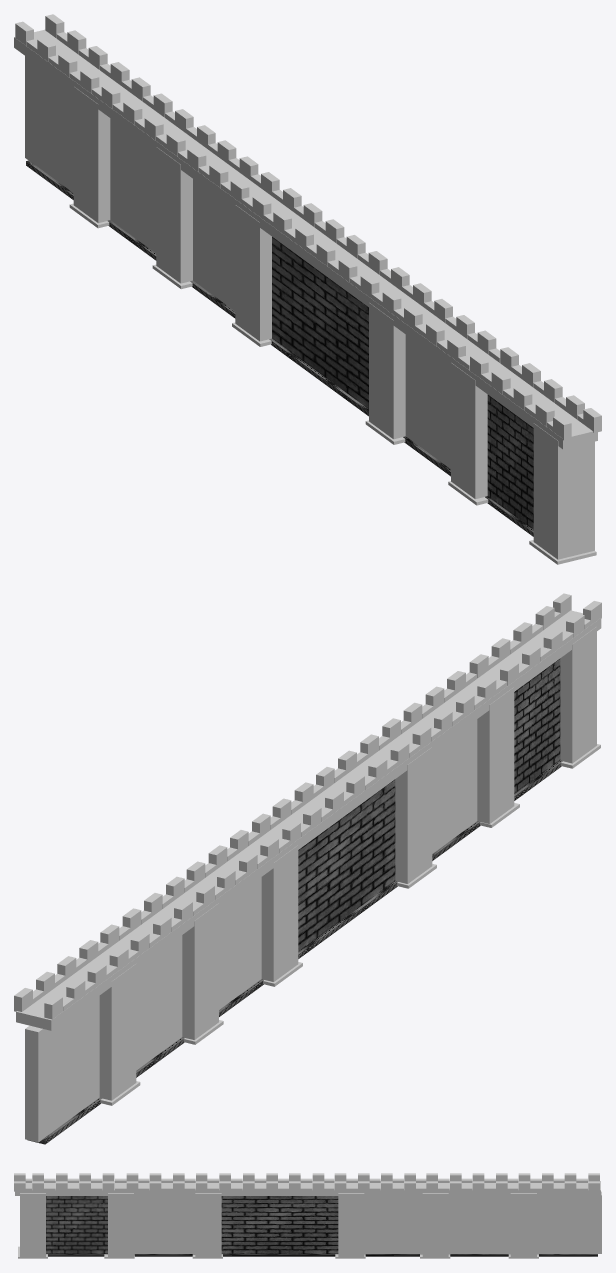
Rendered from Muro.fbx.
3 views of the same model, one above another, from view 1: azimuth 30°, elevation 25°; view 2: azimuth 150°, elevation 25°; view 3: azimuth 270°, elevation 25° (orthographic). The views are drawn at different scales.
Visible parts, largest first — view 1: Box005, Box116, Box010, Box012, Box014, Box009, Box007, Box011, Box013, Box001, Box002, Box015 (+2 smaller); view 2: Box005, Box116, Box012, Box014, Box009, Box007, Box011, Box008, Box013, Box001, Box002, Box010 (+2 smaller); view 3: Box116, Box012, Box005, Box014, Box007, Box009, Box011, Box001, Box002, Box013, Box015, Box008 (+10 smaller).
Part boxes in pixels (x1,y1,x2,y2): Box005: (14,29,597,449); Box116: (272,237,368,408); Box010: (533,423,594,559); Box012: (25,56,73,192); Box014: (110,118,156,253); Box009: (487,395,533,529); Box007: (405,334,450,468); Box011: (193,179,235,310); Box013: (73,86,110,222); Box001: (235,205,271,341); Box002: (369,302,405,439); Box015: (156,147,192,283); Box005: (16,610,601,1030); Box116: (298,779,395,951); Box012: (25,996,99,1142); Box014: (136,935,182,1070); Box009: (514,658,560,793); Box007: (432,719,477,853); Box011: (219,877,261,1009); Box008: (477,687,514,823); Box013: (99,964,136,1100); Box001: (261,845,298,981); Box002: (395,747,432,883); Box010: (560,626,596,763); Box116: (221,1196,338,1253); Box012: (537,1191,601,1253); Box005: (15,1181,600,1195); Box014: (448,1196,510,1253); Box007: (134,1196,195,1253); Box009: (46,1196,107,1253); Box011: (364,1196,422,1253); Box001: (338,1193,364,1256); Box002: (195,1193,221,1256); Box013: (510,1193,536,1256); Box015: (422,1193,448,1256); Box008: (108,1193,133,1256).
Size of the model in its own units: 56.89 by 190 by 1330.
